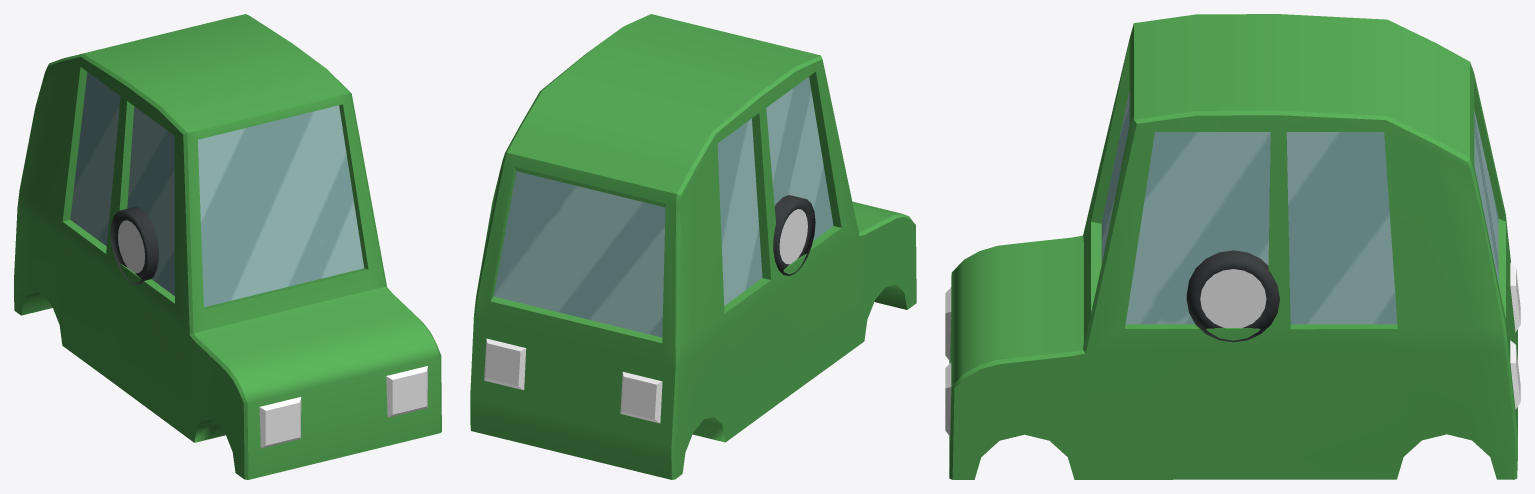
The model's file is car_4_G.fbx.
3 renders of one model, left to right at view 1: azimuth 30°, elevation 25°; view 2: azimuth 150°, elevation 25°; view 3: azimuth 270°, elevation 25°, orthographic. The views are drawn at different scales.
Parts seen in each view (by area): view 1: car_4_chasis_G, car_4_back_wheel_G, car_4_right_wheel_G; view 2: car_4_chasis_G, car_4_back_wheel_G; view 3: car_4_chasis_G, car_4_left_wheel_G.
Part boxes in pixels (box(x1,y1,x2,y2)): car_4_chasis_G: box(14, 14, 441, 479); car_4_back_wheel_G: box(110, 207, 157, 284); car_4_right_wheel_G: box(126, 207, 158, 281); car_4_chasis_G: box(470, 14, 916, 479); car_4_back_wheel_G: box(773, 195, 815, 275); car_4_chasis_G: box(945, 14, 1520, 479); car_4_left_wheel_G: box(1186, 250, 1279, 342).
Bounding box in the file's own units: 81.53 × 117 × 169.
